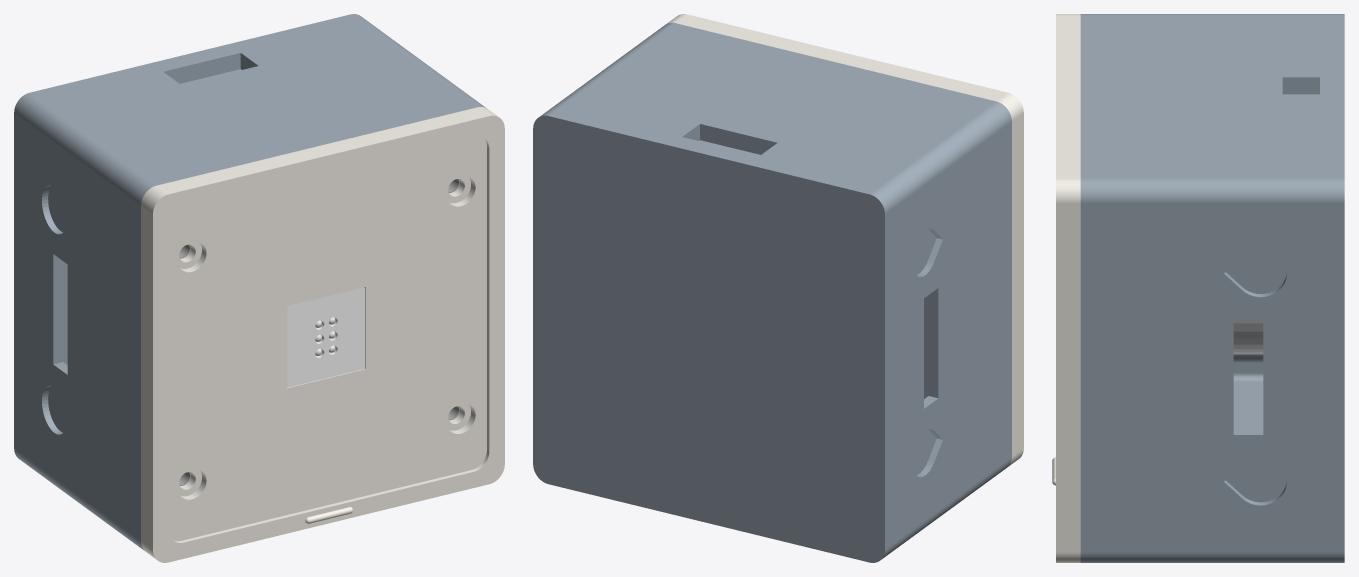
The model's file is braillix.glb.
3 views of the same model, side by side, from view 1: azimuth 30°, elevation 25°; view 2: azimuth 150°, elevation 25°; view 3: azimuth 270°, elevation 25° (orthographic). The views are drawn at different scales.
Parts seen in each view (by area): view 1: top_plate, outer_box, dot_insert; view 2: outer_box, top_plate; view 3: outer_box, top_plate, motor_body.
Part boxes in pixels (x1,y1,x2,y2): top_plate: [141, 107, 504, 562]; outer_box: [14, 14, 485, 550]; dot_insert: [287, 287, 365, 387]; outer_box: [533, 22, 1011, 562]; top_plate: [667, 14, 1023, 466]; outer_box: [1080, 14, 1344, 562]; top_plate: [1052, 14, 1080, 562]; motor_body: [1233, 320, 1263, 354].
Bounding box in the file's own units: 68 × 69.41 × 47.09.
